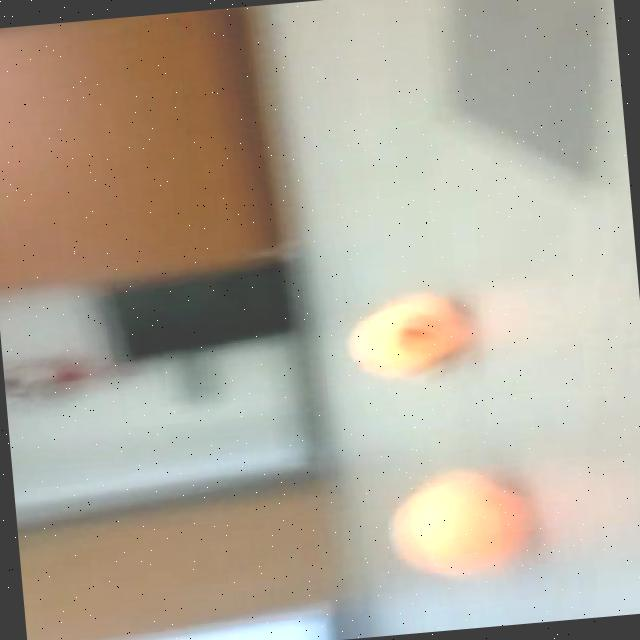ping-pong-ball: (382, 463, 540, 580), (342, 291, 476, 391)
